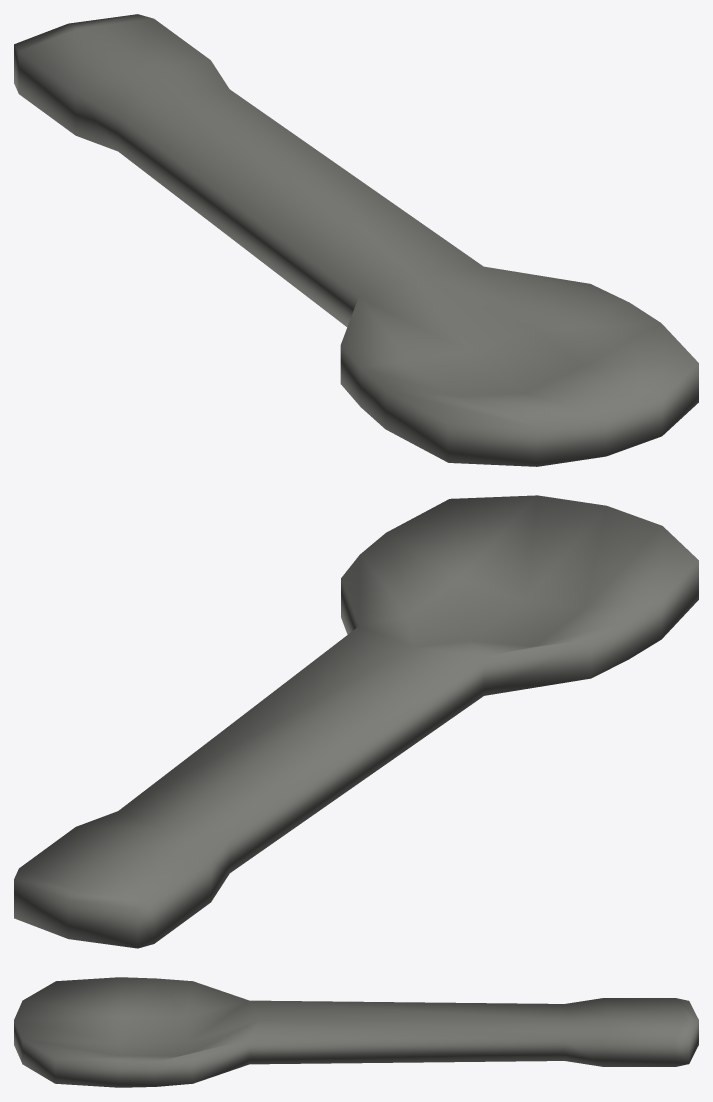
The model's file is Spoon.fbx.
3 renders of one model, top to bottom at view 1: azimuth 30°, elevation 25°; view 2: azimuth 150°, elevation 25°; view 3: azimuth 270°, elevation 25°, orthographic. The views are drawn at different scales.
Visible parts, largest first — view 1: Cube.8188; view 2: Cube.8188; view 3: Cube.8188.
Boxes of the visible parts, x1=… form: Cube.8188: x1=14, y1=14, x2=698, y2=466; Cube.8188: x1=14, y1=495, x2=698, y2=948; Cube.8188: x1=14, y1=977, x2=698, y2=1087.
Size of the model in its own units: 11.79 by 3.12 by 39.84.
Materials: 1 (1 with a texture image).
